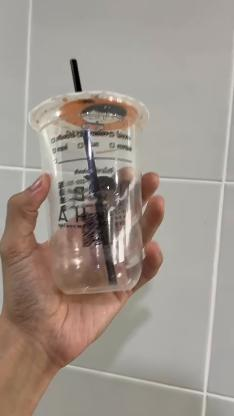Plastic Cup: (27, 90, 151, 296)
